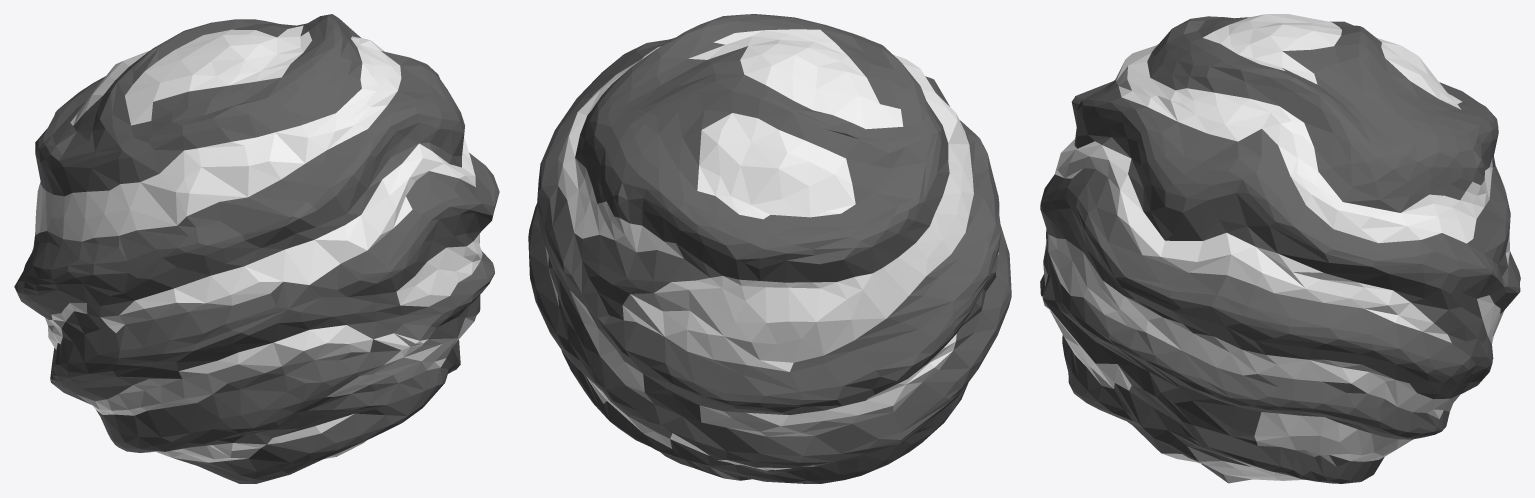
Rendered from Planet_33.glb.
3 renders of one model, left to right at view 1: azimuth 30°, elevation 25°; view 2: azimuth 150°, elevation 25°; view 3: azimuth 270°, elevation 25°, orthographic. The views are drawn at different scales.
Visible parts, largest first — view 1: Planet_33; view 2: Planet_33; view 3: Planet_33.
Part boxes in pixels (bbox=[...]): Planet_33: bbox=[14, 14, 499, 483]; Planet_33: bbox=[528, 14, 1011, 483]; Planet_33: bbox=[1040, 14, 1520, 483].
Bounding box in the file's own units: 22.03 × 20.44 × 20.8.
Materials: 1 (1 with a texture image).
